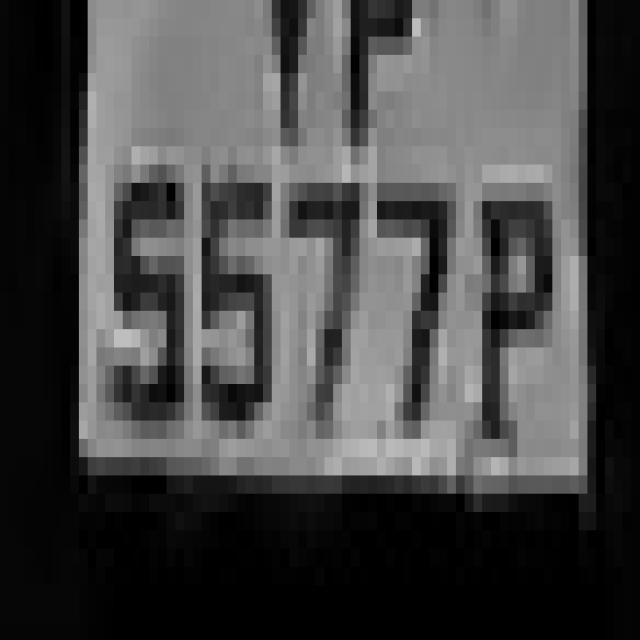5: (176, 110, 280, 457), (88, 128, 193, 421)
7: (342, 110, 465, 493), (272, 92, 359, 420)
P: (447, 110, 570, 493)
